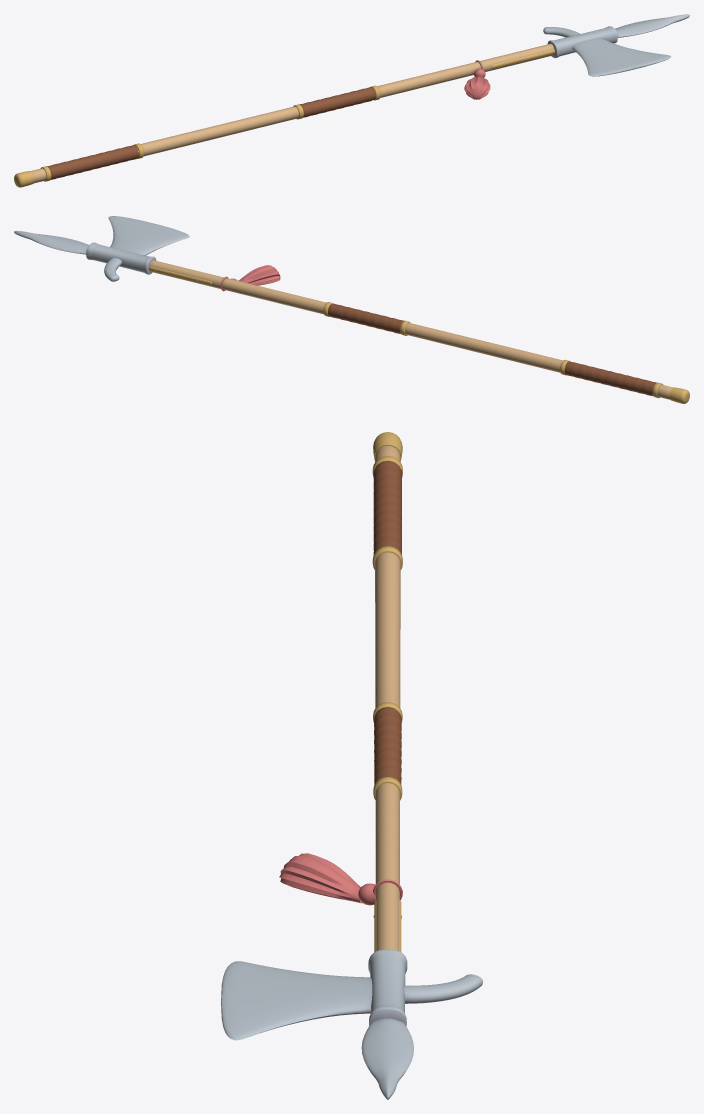
The model's file is halberd.glb.
3 views of the same model, one above another, from view 1: azimuth 30°, elevation 25°; view 2: azimuth 150°, elevation 25°; view 3: azimuth 270°, elevation 25° (orthographic). The views are drawn at different scales.
Parts seen in each view (by area): view 1: halberd_body; view 2: halberd_body; view 3: halberd_body.
Part boxes in pixels (bbox=[...]): halberd_body: bbox=[14, 14, 689, 187]; halberd_body: bbox=[14, 216, 689, 403]; halberd_body: bbox=[221, 432, 482, 1099].
Size of the model in its own units: 2.11 by 0.0462 by 0.3548.
1 material, 1 textured.
